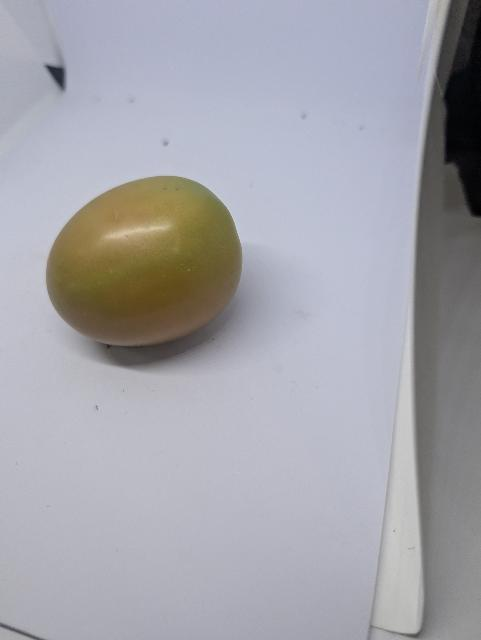turning: (44, 171, 251, 352)
